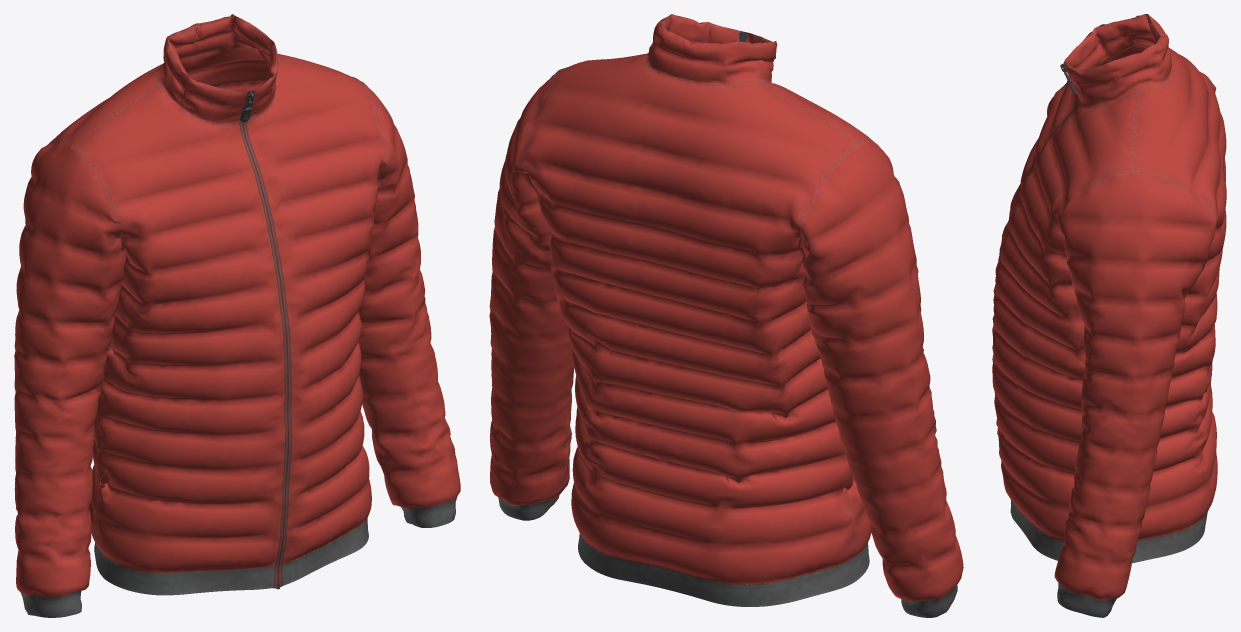
The model's file is chaqueta-acolchada-roja.glb.
The picture shows the model from 3 angles, left to right: view 1: azimuth 30°, elevation 25°; view 2: azimuth 150°, elevation 25°; view 3: azimuth 270°, elevation 25°; orthographic projection. The views are drawn at different scales.
Visible parts, largest first — view 1: Object_6, Object_10; view 2: Object_6, Object_10; view 3: Object_6, Object_10.
Part boxes in pixels (bbox=[...]): Object_6: bbox=[14, 14, 460, 597]; Object_10: bbox=[21, 91, 457, 617]; Object_6: bbox=[489, 14, 963, 600]; Object_10: bbox=[498, 31, 957, 617]; Object_6: bbox=[992, 14, 1226, 599]; Object_10: bbox=[997, 62, 1207, 617].
Size of the model in its own units: 0.6073 by 0.7 by 0.3012.
4 materials, 4 textured.
